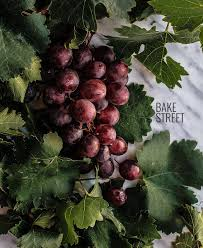Red Grapes: (41, 35, 141, 209)
